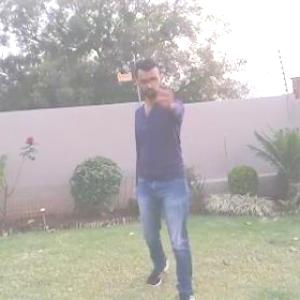takeoff-hand: (152, 85, 183, 114)
